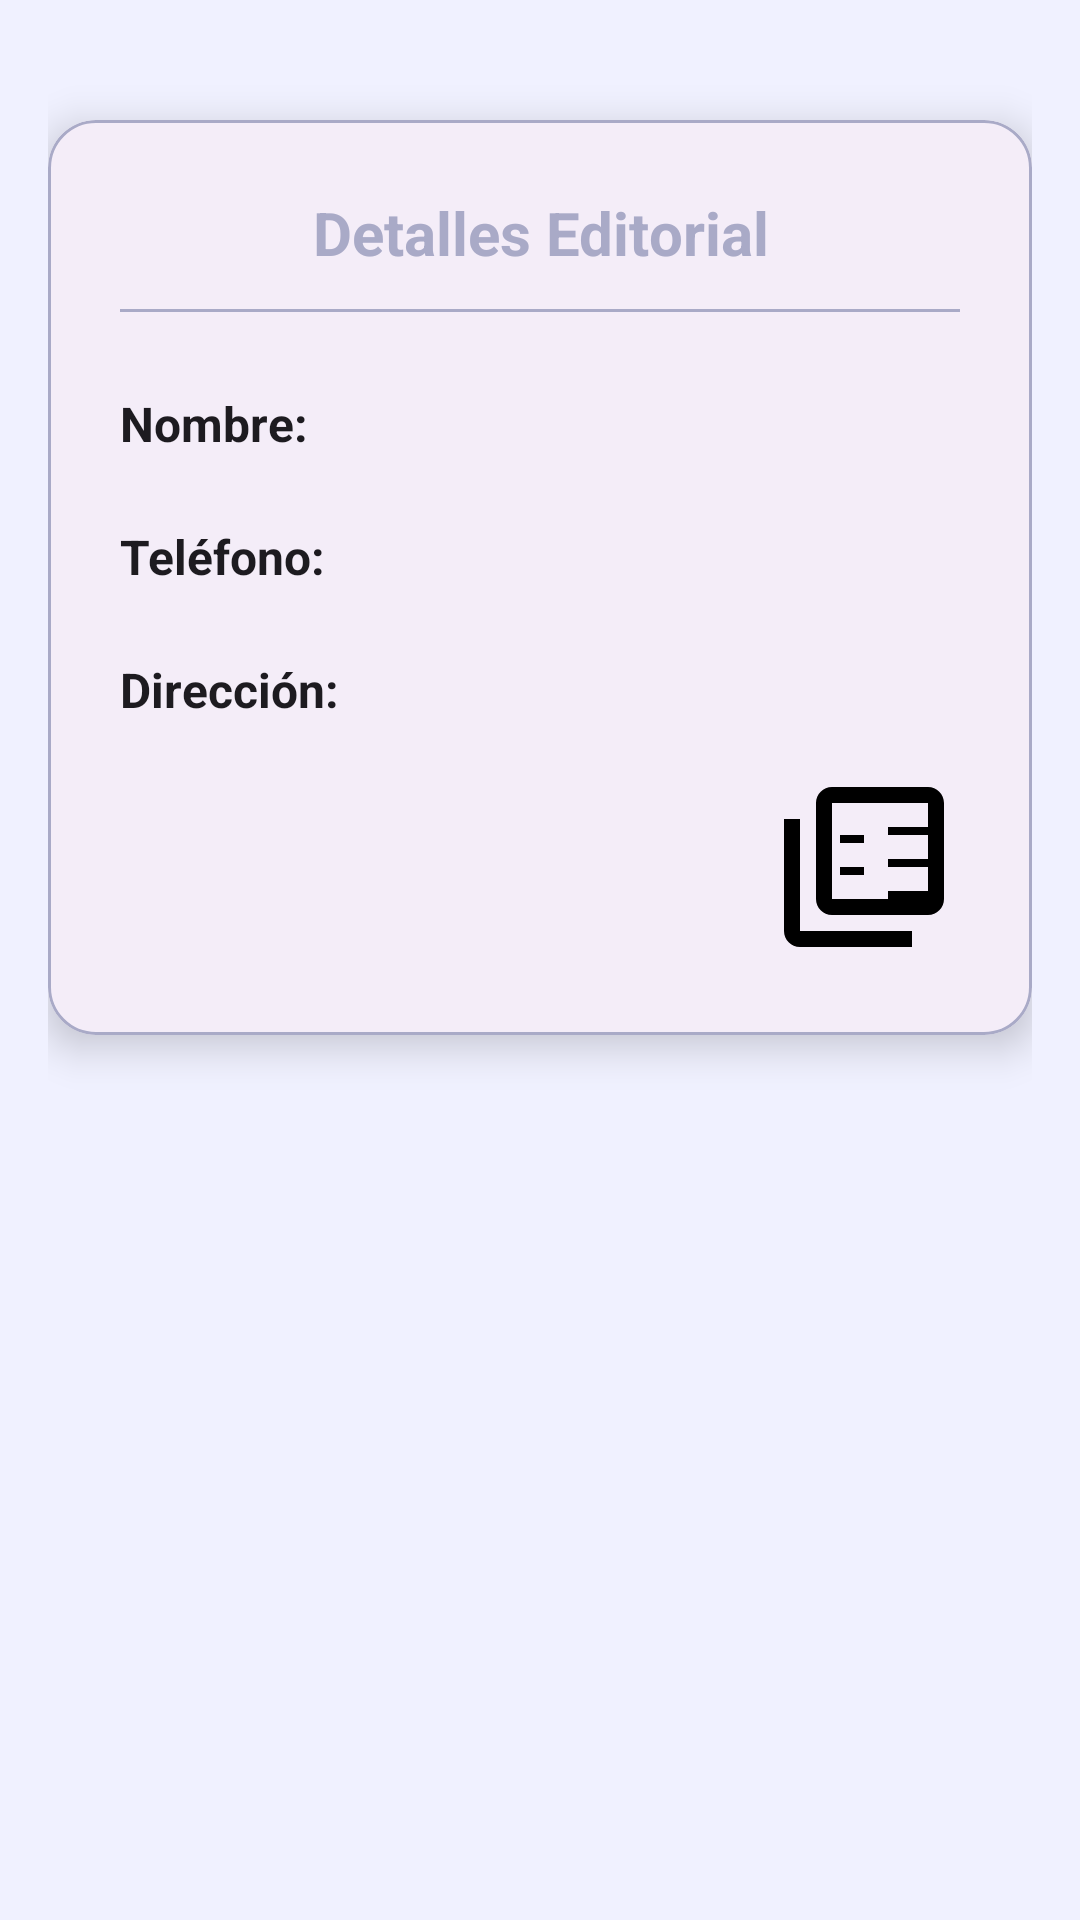

Named icons in this screenshot (1080*1920) and their centers, (x=x, y=y):
library books: (x=864, y=867)
